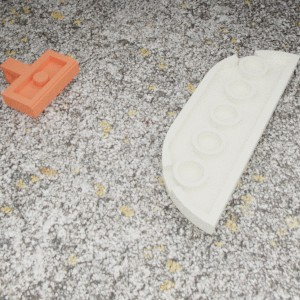lego: (161, 50, 300, 234), (0, 49, 79, 118)
